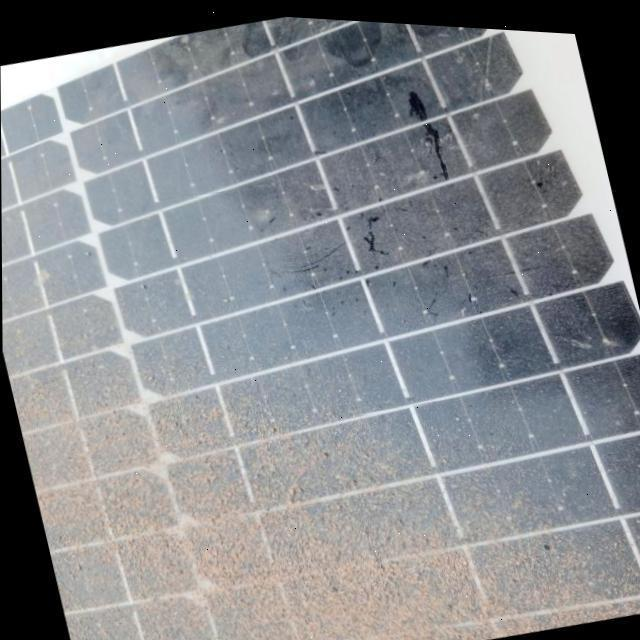Anomaly Solar Panel: (0, 0, 640, 640)
Surface Contaminant: (0, 13, 640, 600)
